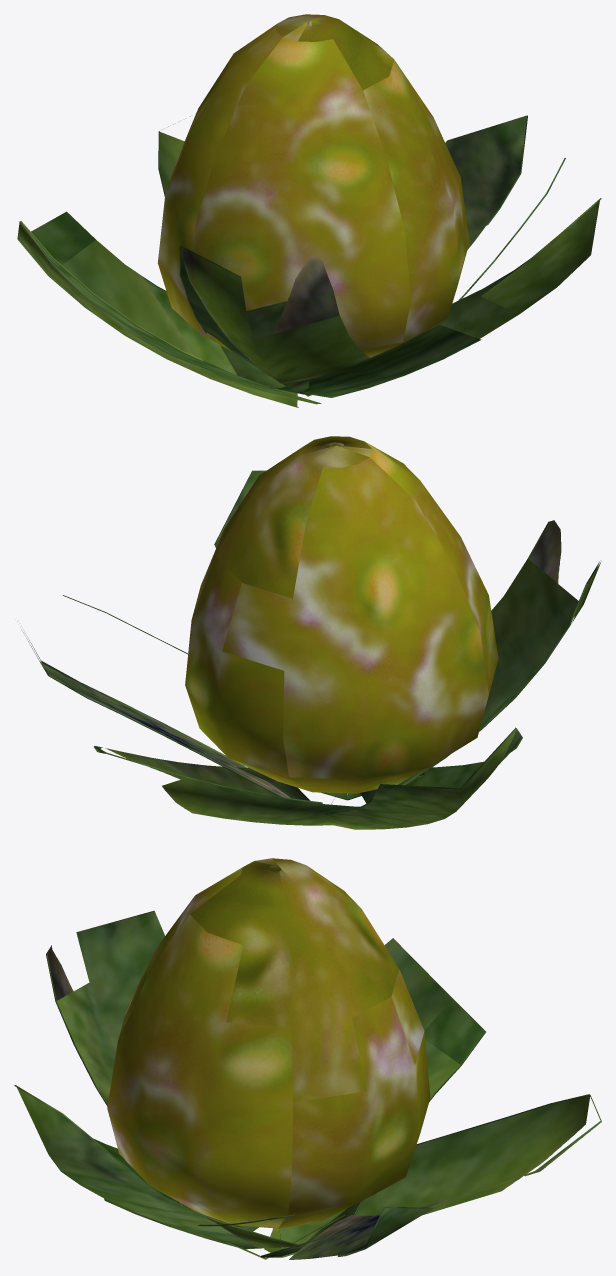
3 renders of one model, top to bottom at view 1: azimuth 30°, elevation 25°; view 2: azimuth 150°, elevation 25°; view 3: azimuth 270°, elevation 25°, orthographic. The views are drawn at different scales.
Visible parts, largest first — view 1: leaf3; view 2: leaf3; view 3: leaf3.
Part boxes in pixels (left/top/right/bottom): leaf3: left=17, top=14, right=601, bottom=407; leaf3: left=18, top=436, right=601, bottom=829; leaf3: left=14, top=858, right=601, bottom=1259.
Bounding box in the file's own units: 0.0359 × 0.0349 × 0.0259.
